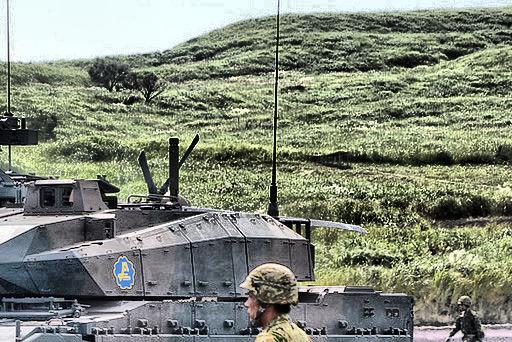tanks: (1, 141, 415, 342), (1, 116, 39, 148)
